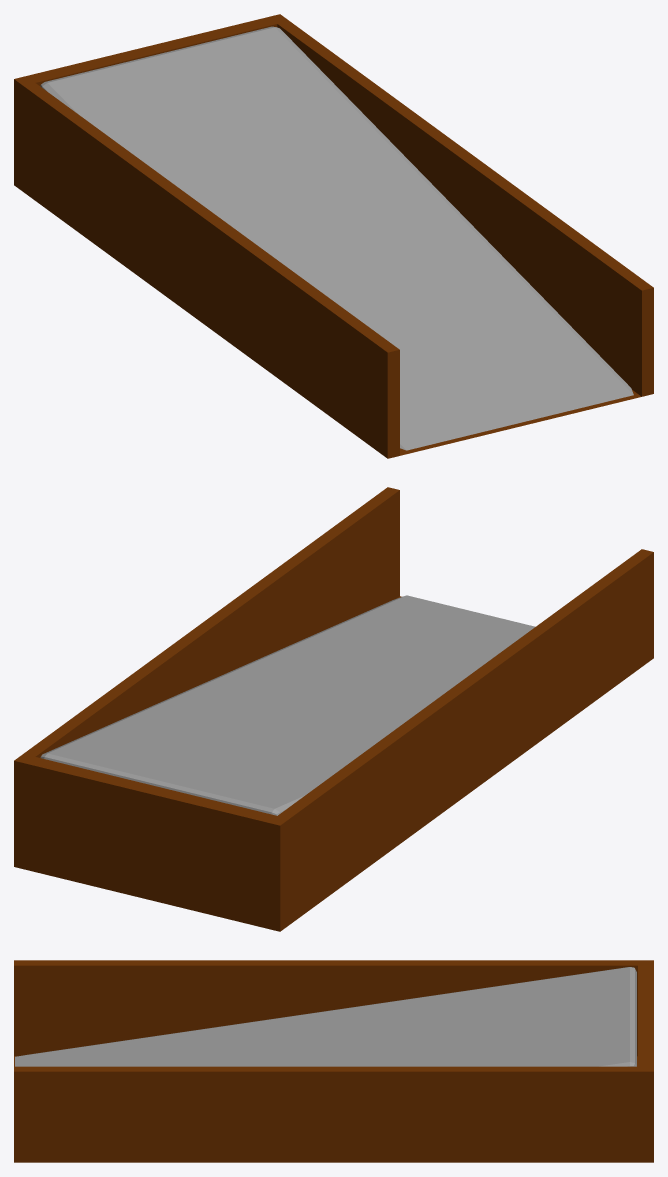
Rendered from RampG.fbx.
3 views of the same model, one above another, from view 1: azimuth 30°, elevation 25°; view 2: azimuth 150°, elevation 25°; view 3: azimuth 270°, elevation 25° (orthographic). The views are drawn at different scales.
Parts seen in each view (by area): view 1: Ramp; view 2: Ramp; view 3: Ramp.
Boxes of the visible parts, bbox=[...] form: Ramp: bbox=[14, 14, 653, 458]; Ramp: bbox=[14, 487, 653, 931]; Ramp: bbox=[14, 960, 653, 1162].
Size of the model in its own units: 165 by 63.92 by 401.
